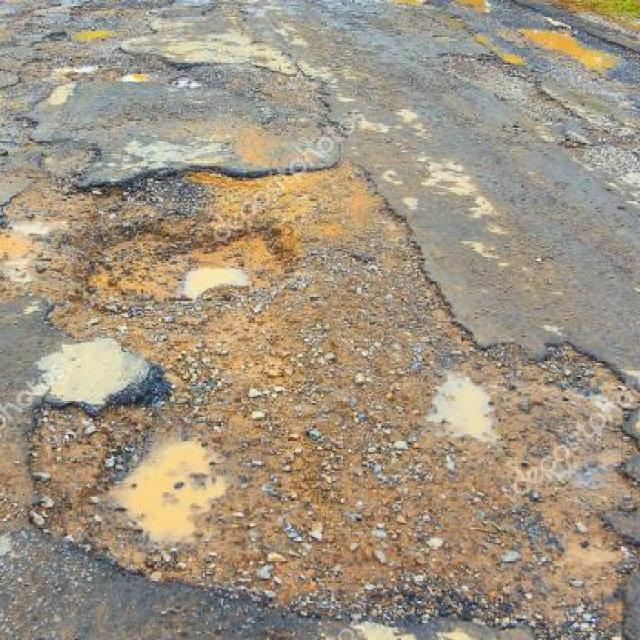pothole: (82, 218, 298, 320), (511, 23, 623, 74)
